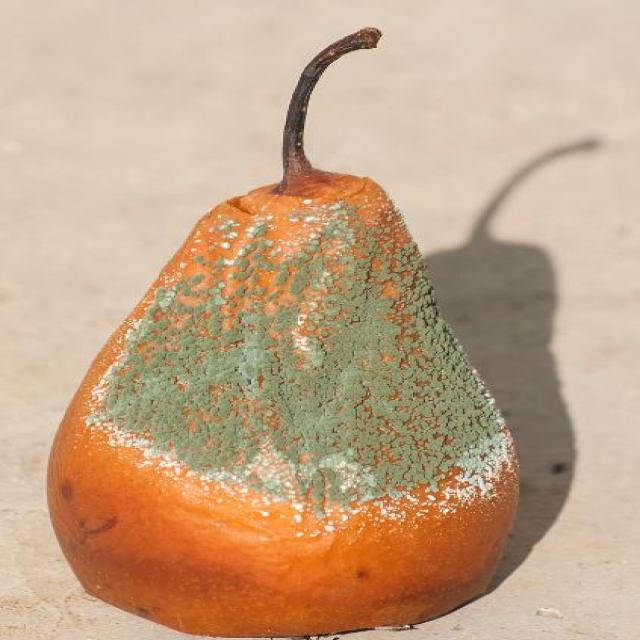Wet Waste: (44, 24, 522, 639)
